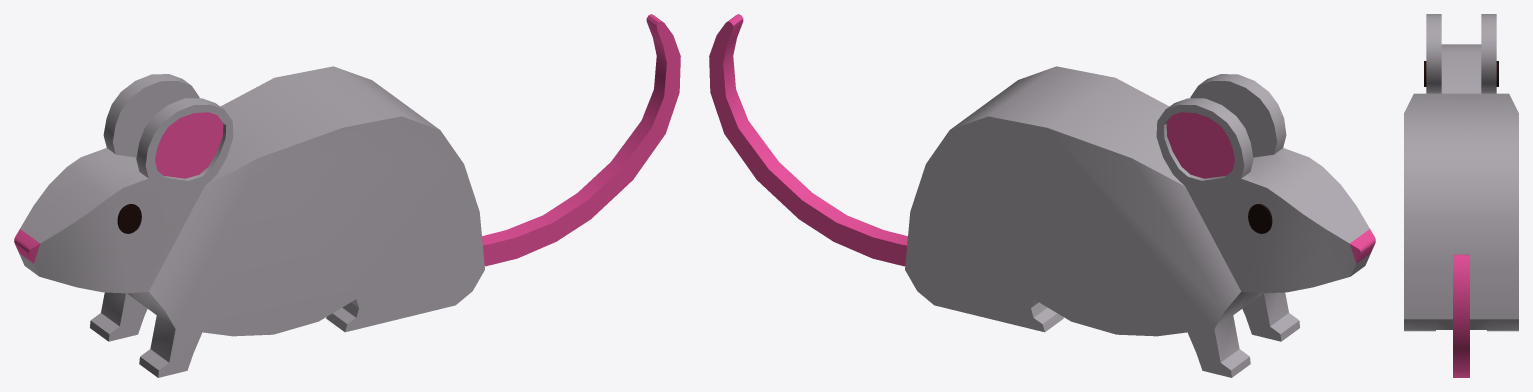
The model's file is Mouse.gltf.
3 views of the same model, side by side, from view 1: azimuth 30°, elevation 25°; view 2: azimuth 150°, elevation 25°; view 3: azimuth 270°, elevation 25° (orthographic). The views are drawn at different scales.
Visible parts, largest first — view 1: Plane.138, Circle.1915; view 2: Plane.138, Circle.1915; view 3: Plane.138, Circle.1915.
Part boxes in pixels (bbox=[...]): Plane.138: bbox=[14, 14, 680, 377]; Circle.1915: bbox=[117, 204, 141, 233]; Plane.138: bbox=[709, 14, 1375, 377]; Circle.1915: bbox=[1248, 204, 1272, 233]; Plane.138: bbox=[1404, 14, 1518, 377]; Circle.1915: bbox=[1424, 61, 1498, 86].
Bounding box in the file's own units: 2.2 × 0.809 × 0.3989.
